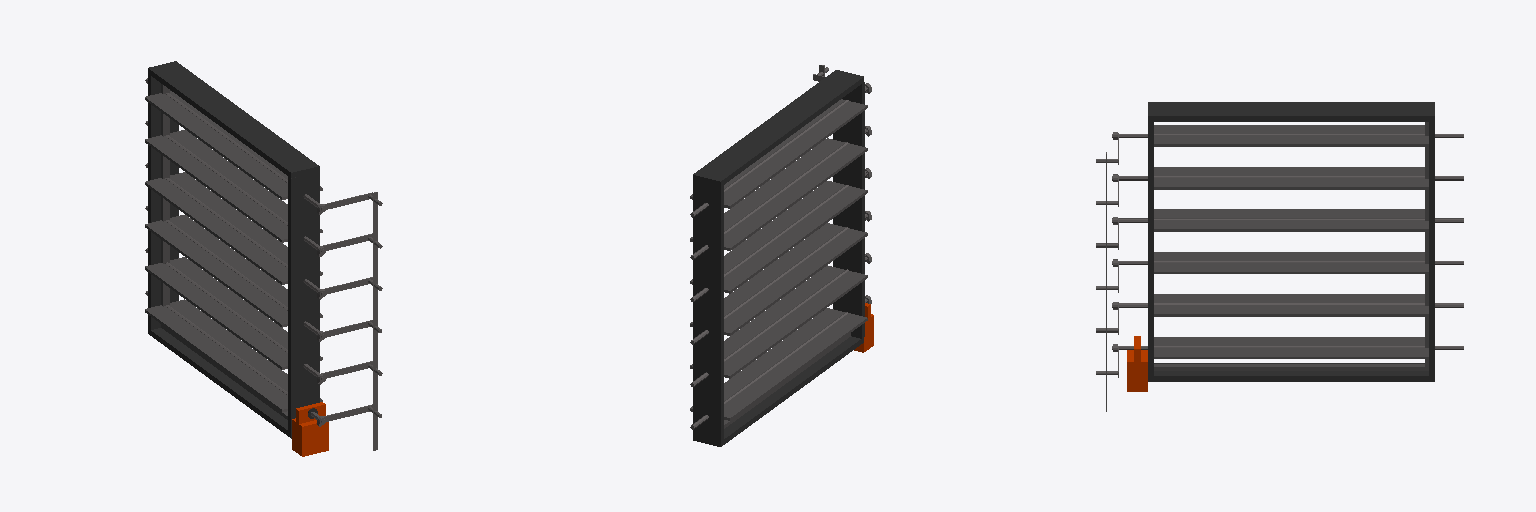
Rendered from horizontal_bar.obj.
3 renders of one model, left to right at view 1: azimuth 30°, elevation 25°; view 2: azimuth 150°, elevation 25°; view 3: azimuth 270°, elevation 25°, orthographic.
Visible parts, largest first — view 1: Layer_1, Layer_13, Layer_10, Layer_12, Layer_11, Layer_14, Layer_9, Layer_2; view 2: Layer_1, Layer_12, Layer_13, Layer_10, Layer_11, Layer_14, Layer_9; view 3: Layer_1, Layer_13, Layer_11, Layer_10, Layer_9, Layer_12, Layer_14.
Part boxes in pixels (x1,y1,x2,y2): Layer_1: (148, 61, 328, 456); Layer_13: (145, 248, 325, 384); Layer_10: (145, 121, 325, 256); Layer_12: (145, 206, 325, 341); Layer_11: (145, 163, 325, 299); Layer_14: (145, 291, 325, 426); Layer_9: (145, 78, 325, 214); Layer_2: (373, 192, 377, 450); Layer_1: (693, 70, 873, 446); Layer_12: (690, 211, 871, 344); Layer_13: (690, 253, 871, 386); Layer_10: (690, 126, 871, 259); Layer_11: (690, 168, 871, 301); Layer_14: (690, 295, 871, 429); Layer_9: (690, 83, 871, 217); Layer_1: (1127, 102, 1434, 391); Layer_13: (1112, 294, 1463, 316); Layer_11: (1112, 209, 1463, 231); Layer_10: (1112, 167, 1463, 189); Layer_9: (1112, 125, 1463, 146); Layer_12: (1112, 252, 1463, 273); Layer_14: (1112, 337, 1463, 358).
Bounding box in the file's own units: 0.2653 × 0.9546 × 1.15.